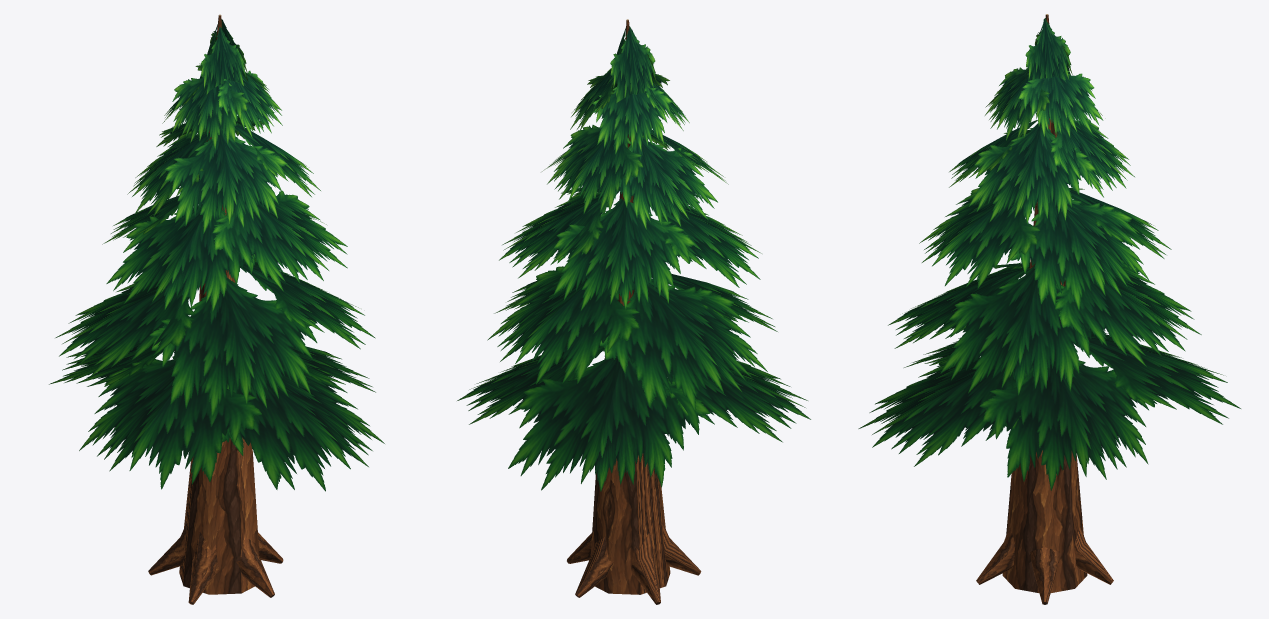
File: source_3.glb
The picture shows the model from 3 angles, left to right: view 1: azimuth 30°, elevation 25°; view 2: azimuth 150°, elevation 25°; view 3: azimuth 270°, elevation 25°; orthographic projection.
Parts seen in each view (by area): view 1: Tapered harvest trunk; view 2: Tapered harvest trunk; view 3: Tapered harvest trunk.
Boxes of the visible parts, x1=… form: Tapered harvest trunk: x1=49, y1=14, x2=384, y2=604; Tapered harvest trunk: x1=457, y1=19, x2=810, y2=604; Tapered harvest trunk: x1=858, y1=14, x2=1240, y2=604.
Size of the model in its own units: 7.11 by 11.42 by 7.55.
3 materials, 2 textured.
